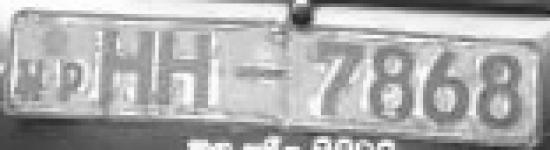-: (235, 60, 298, 85)
6: (421, 44, 473, 128)
7: (313, 37, 366, 120)
8: (476, 47, 528, 132), (366, 42, 418, 125)
H: (153, 27, 206, 108)
P: (94, 25, 155, 110), (53, 57, 86, 102)
W: (14, 55, 47, 102)
